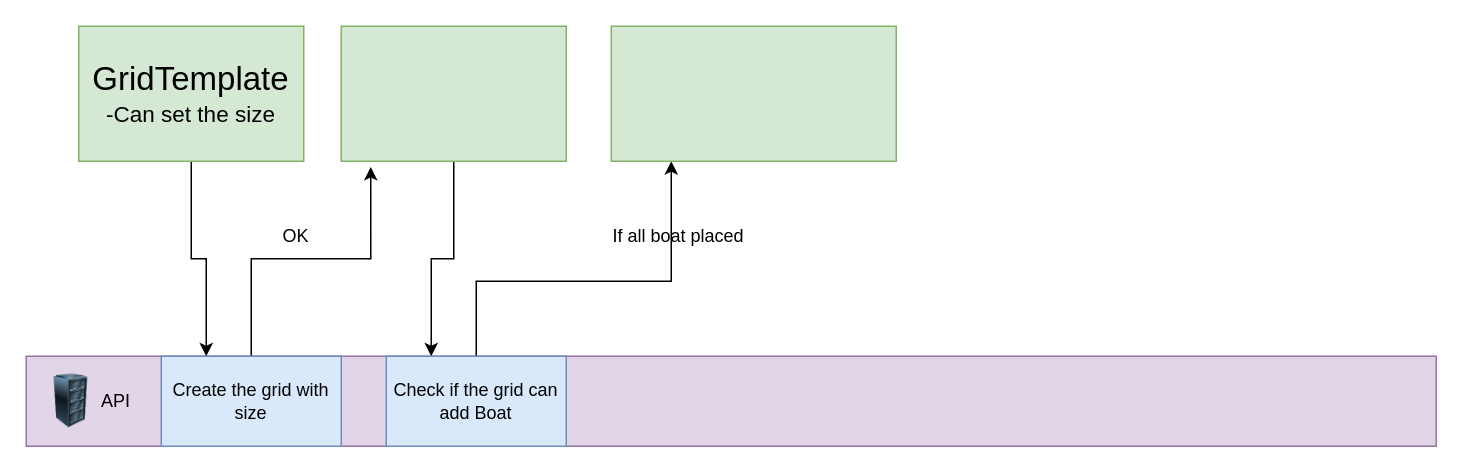
This 1463x473 diagram has some shape labels left out. Each missing label, with the centre of its shape:
"GridPlayTemplate" belongs at [753,93].
"GridTemplate -Can add Boat" belongs at [453,93].
